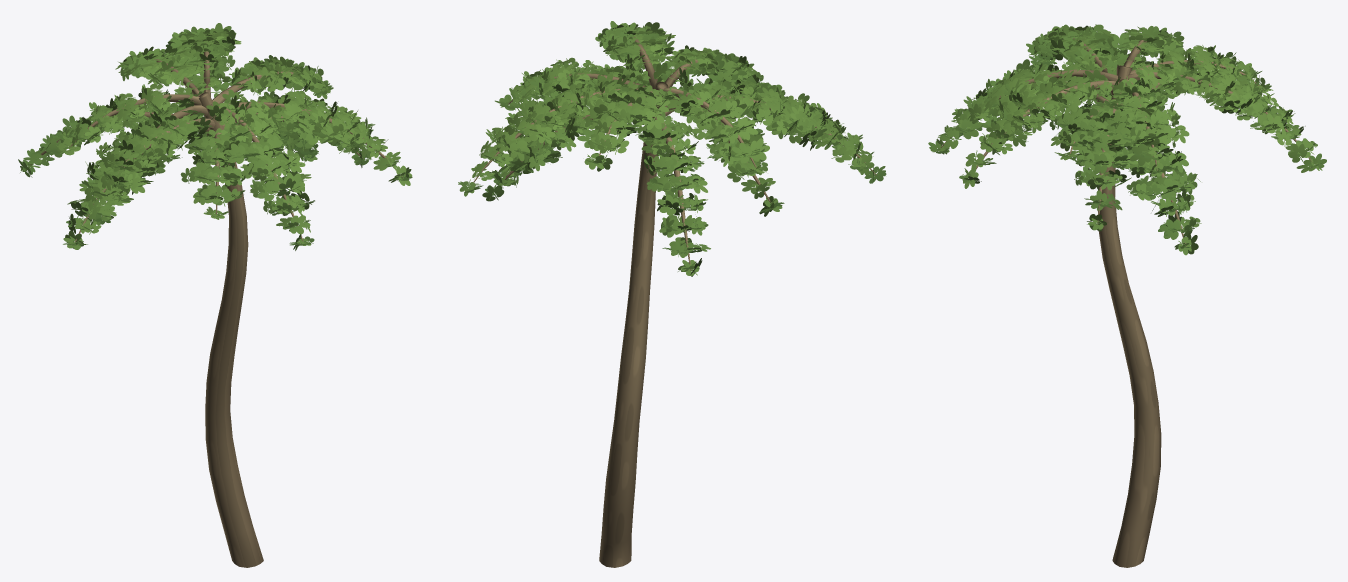
File: tree.gltf
3 views of the same model, side by side, from view 1: azimuth 30°, elevation 25°; view 2: azimuth 150°, elevation 25°; view 3: azimuth 270°, elevation 25° (orthographic). The views are drawn at different scales.
Parts seen in each view (by area): view 1: Tree_LOD0; view 2: Tree_LOD0; view 3: Tree_LOD0.
Boxes of the visible parts, x1,y1,x2,y2 form: Tree_LOD0: [18, 23, 412, 567]; Tree_LOD0: [458, 21, 886, 567]; Tree_LOD0: [928, 24, 1326, 567].
Bounding box in the file's own units: 12.09 × 16.74 × 12.6.
Materials: 2 (2 with a texture image).
